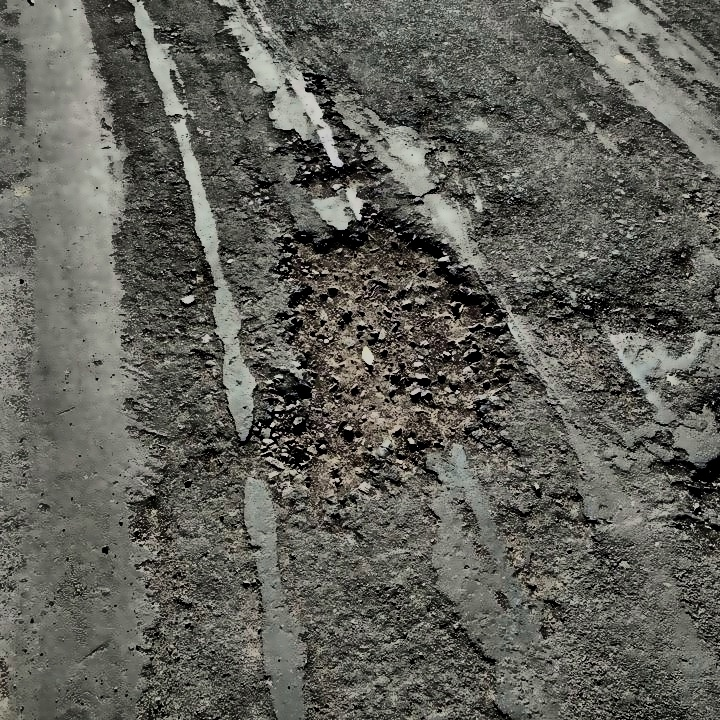pothole: (251, 210, 517, 502)
